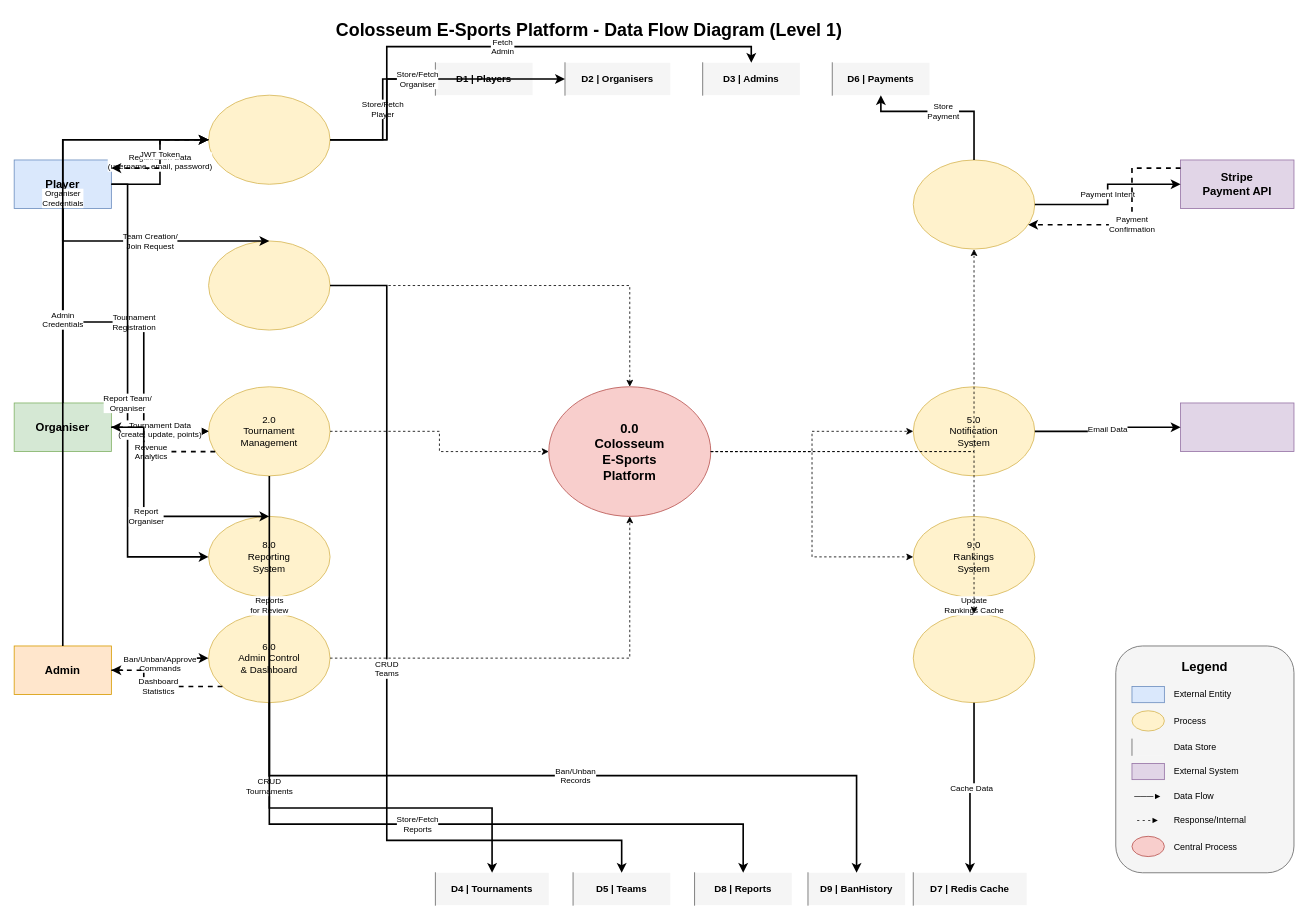
Image size: 1308x919. Some labels were removed from this diagram. The shapes that lost their labels are listed below. From the top down, each one's box as (x1, y1, x2, y2) in pixels, then its label:
(208, 94, 330, 184): 1.0 Authentication System (JWT/bcrypt)
(912, 159, 1035, 249): 4.0 Payment Processing
(208, 240, 330, 330): 3.0 Team Management
(1180, 402, 1294, 452): Email Service (Nodemailer)
(912, 613, 1035, 703): 7.0 Caching Layer
